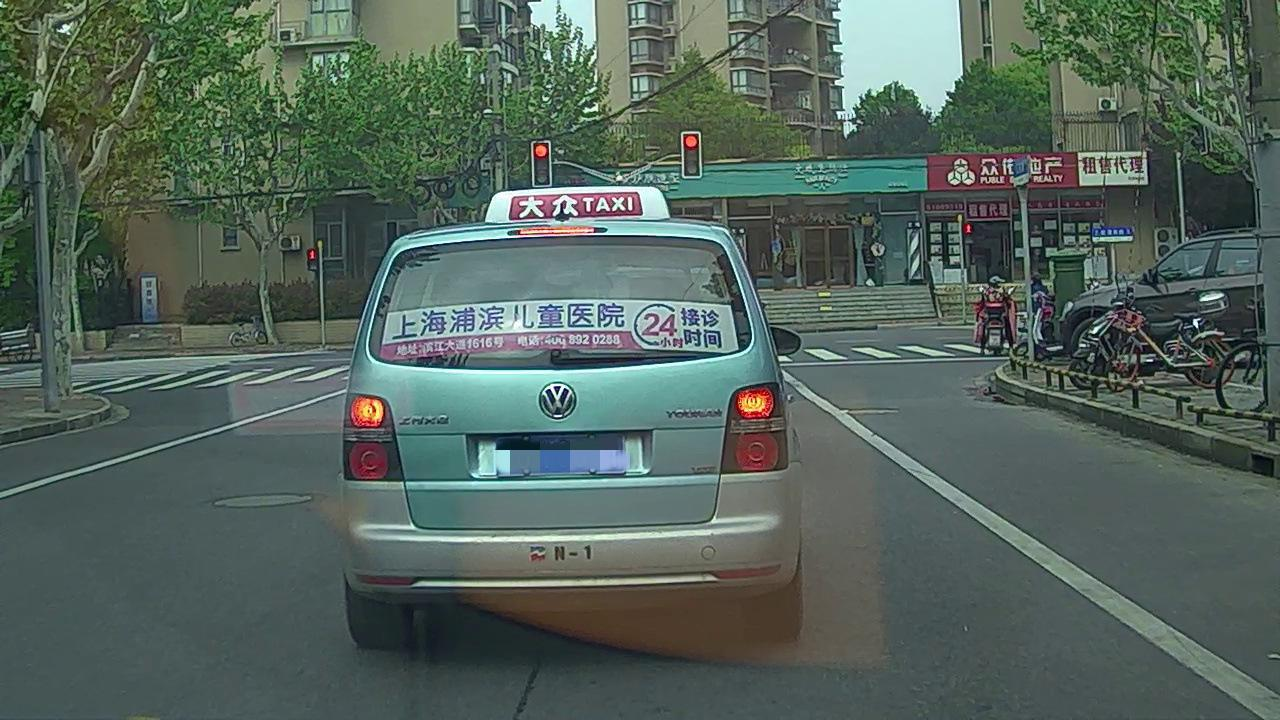traffic_light: (533, 142, 549, 185), (683, 134, 699, 176)
